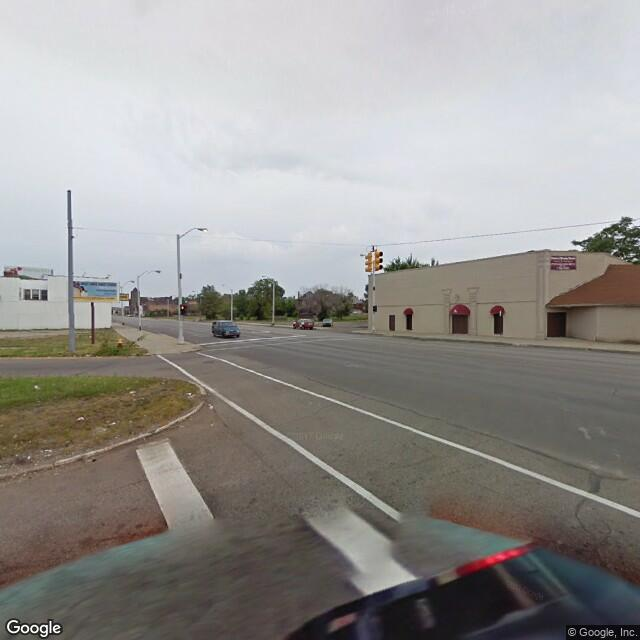litter: (181, 384, 198, 400), (29, 378, 45, 394), (105, 415, 119, 432), (70, 411, 89, 423), (126, 385, 141, 396)
